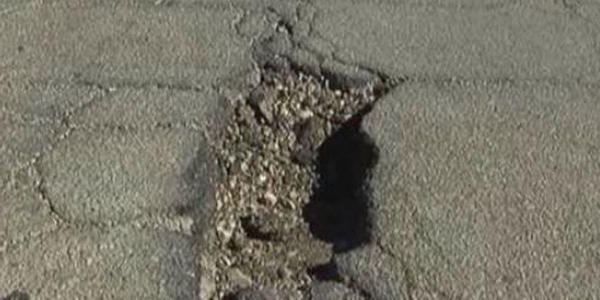pothole: (190, 48, 410, 300)
